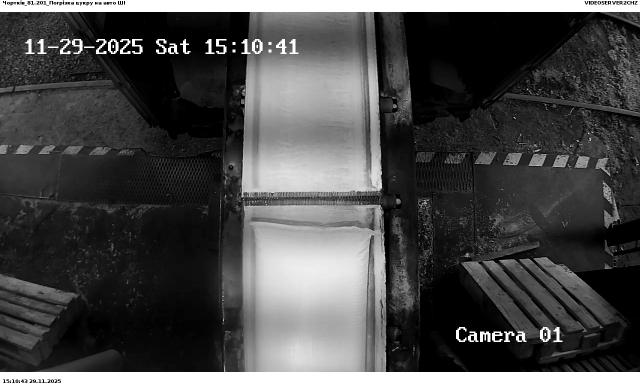bag: (252, 223, 378, 372)
